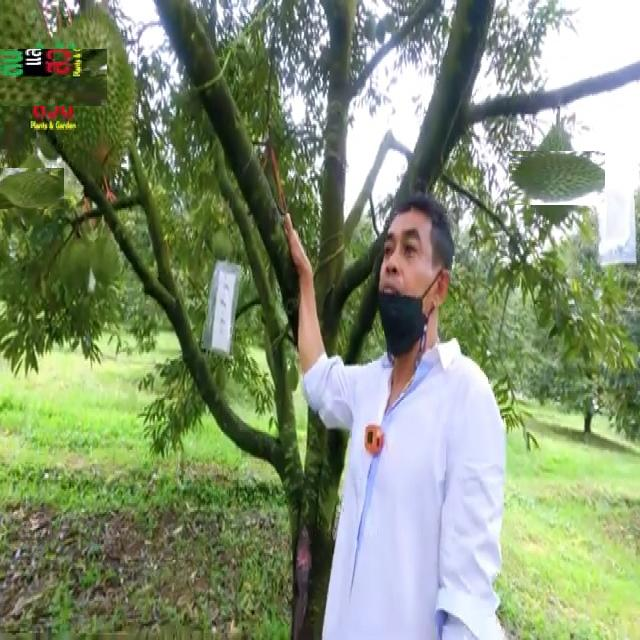durian: (39, 3, 140, 187), (0, 24, 82, 130), (519, 141, 595, 216), (4, 161, 58, 215)
